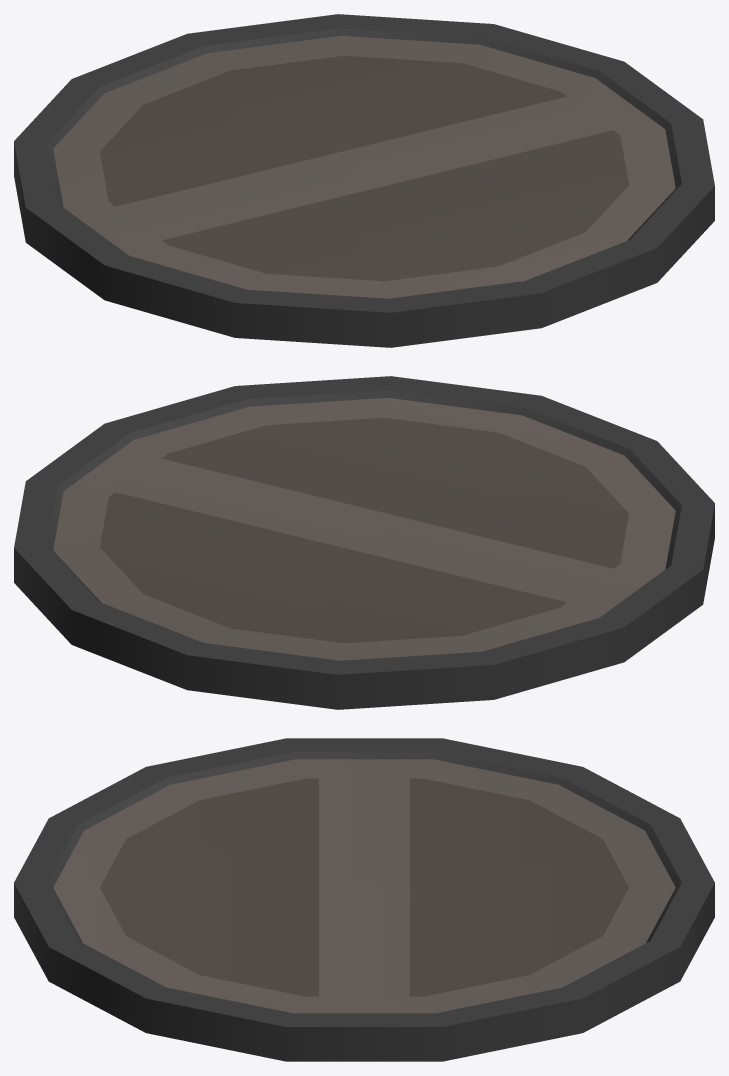
File: Manhole.glb
The picture shows the model from 3 angles, top to bottom: view 1: azimuth 30°, elevation 25°; view 2: azimuth 150°, elevation 25°; view 3: azimuth 270°, elevation 25°; orthographic projection.
Parts seen in each view (by area): view 1: manhole; view 2: manhole; view 3: manhole.
Part boxes in pixels (left/top/right/bottom): manhole: left=14, top=14, right=714, bottom=347; manhole: left=14, top=376, right=714, bottom=709; manhole: left=14, top=738, right=714, bottom=1061.
Bounding box in the file's own units: 0.6337 × 0.0354 × 0.65.
Materials: 1 (1 with a texture image).
